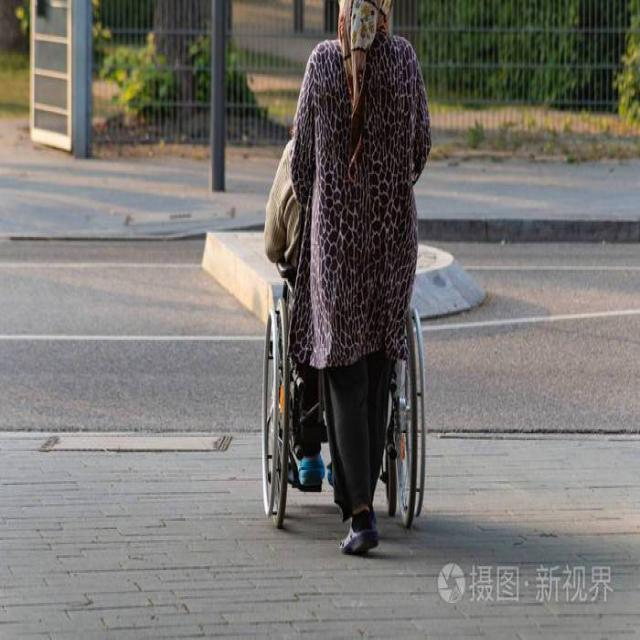wheelchairs: (255, 272, 431, 534)
